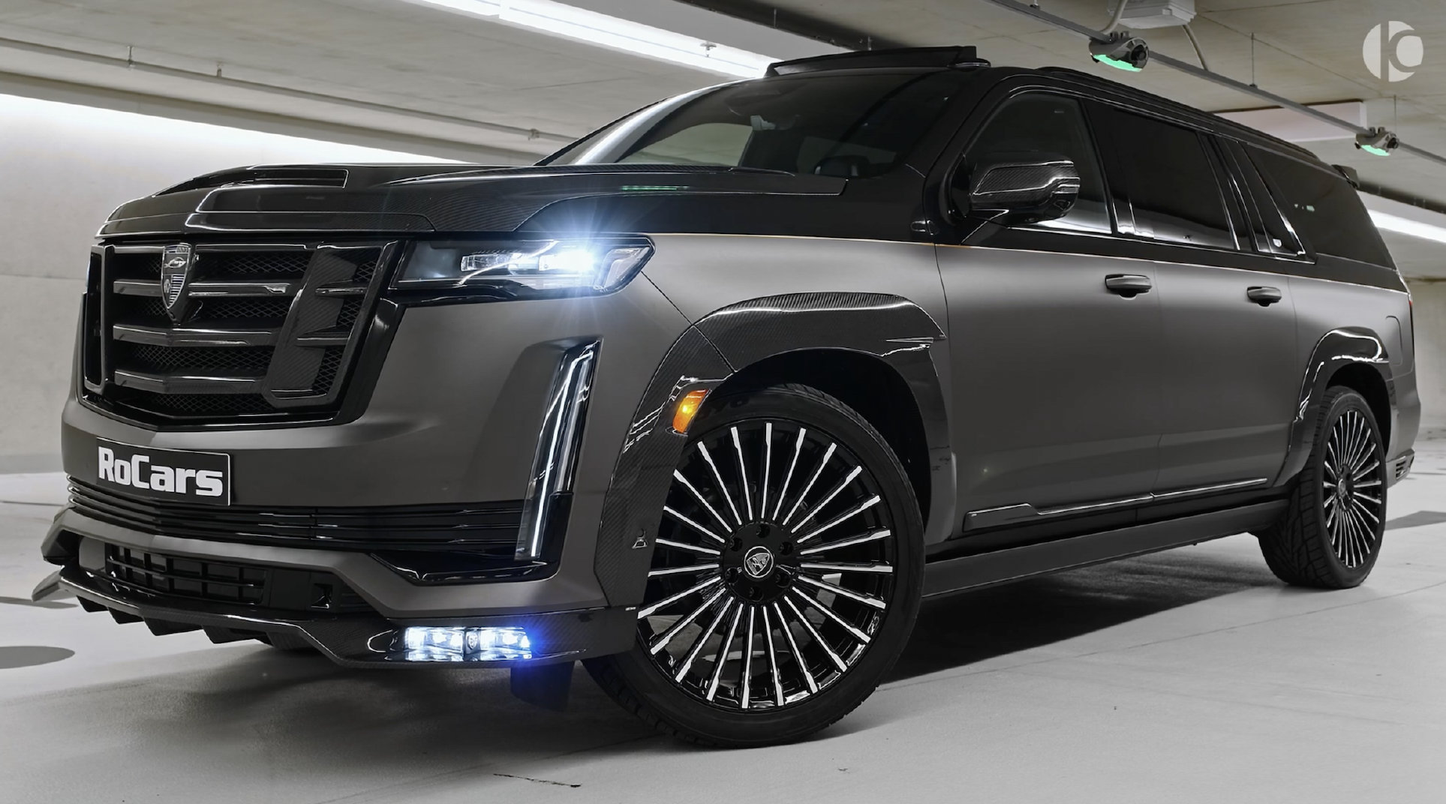other: (32, 32, 1417, 745)
